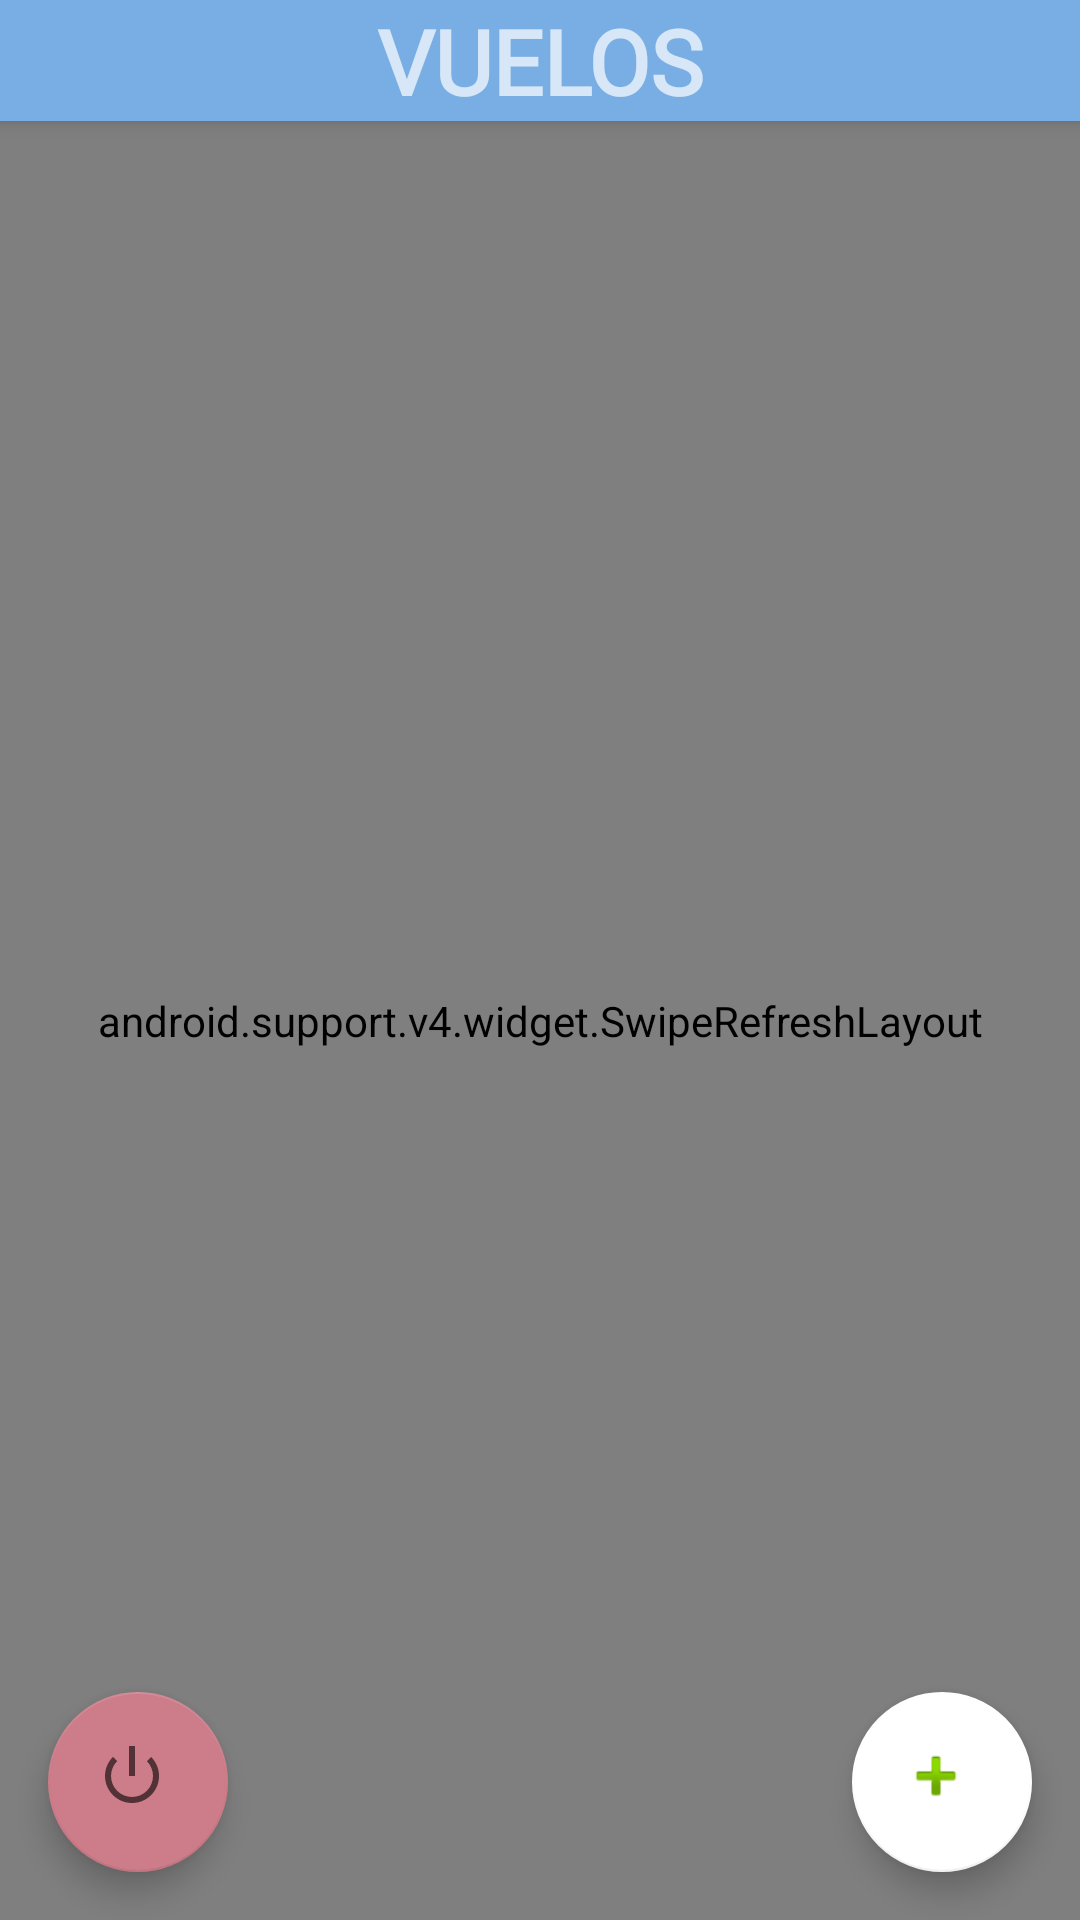

Point at icon controls on the screen. Image size 1080px x 1920px, points as [x,y].
add: [942,1782]
lock power off: [138,1782]
